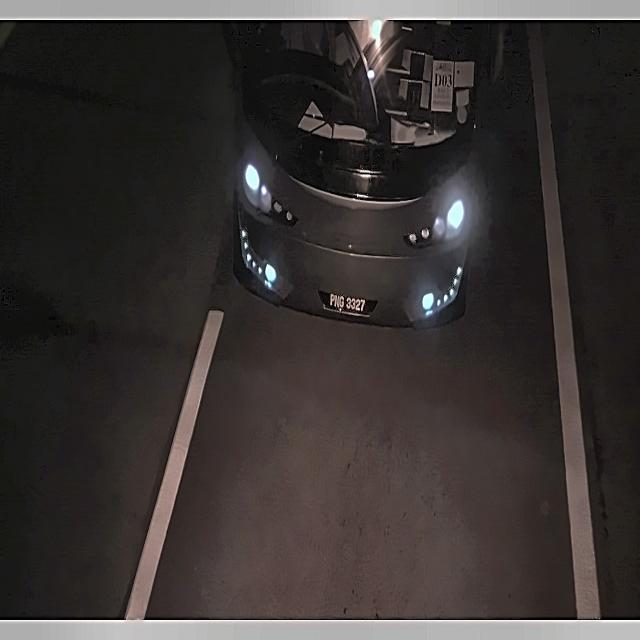car: (313, 281, 376, 323)
